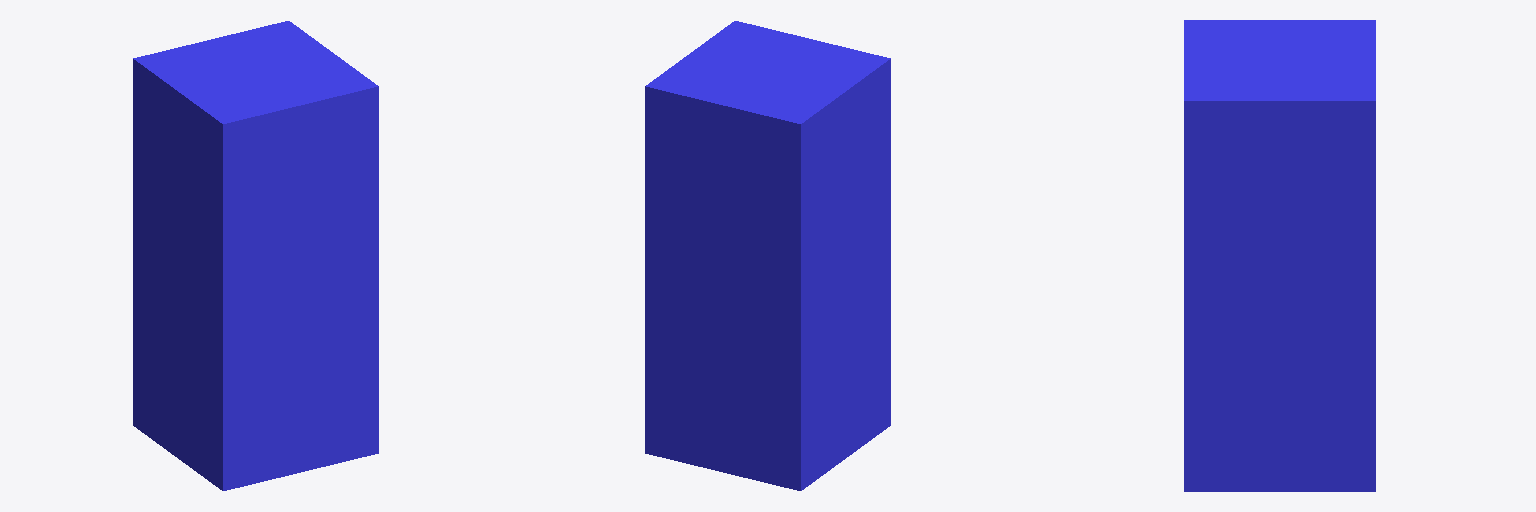
robot.urdf — object:
<?xml version="1.0"?>
<robot name="object">
  <link name="object">
    <visual>
      <origin xyz="0 0 0"/>
      <geometry>
        <!-- 高瘦型: 长(x)=0.04, 宽(y)=0.04, 高(z)=0.09 -->
        <box size="0.04 0.04 0.09"/>
      </geometry>
      <material name="color3">
        <color rgba="0.3 0.3 1.0 1.0"/>
      </material>
    </visual>
    <collision>
      <origin xyz="0 0 0"/>
      <geometry>
        <box size="0.04 0.04 0.09"/>
      </geometry>
    </collision>
    <inertial>
      <density value="567.0"/>
    </inertial>
  </link>
</robot>

--- Render facts (derived) ---
3 views of the same robot in one strip: view 1: azimuth 30°, elevation 25°; view 2: azimuth 150°, elevation 25°; view 3: azimuth 270°, elevation 25° (orthographic).
Robot: object — 1 links, 0 joints (none); root link object; default pose: every joint at zero.
Visible links, largest first — view 1: object; view 2: object; view 3: object.
Link boxes in pixels (bbox=[...]): object: bbox=[133, 21, 378, 490]; object: bbox=[645, 21, 890, 490]; object: bbox=[1184, 20, 1375, 491].
Bounding box of the posed robot: 0.04 × 0.04 × 0.09 m (x, y, z).
Geometry: primitives only (box / cylinder / sphere), no mesh files.